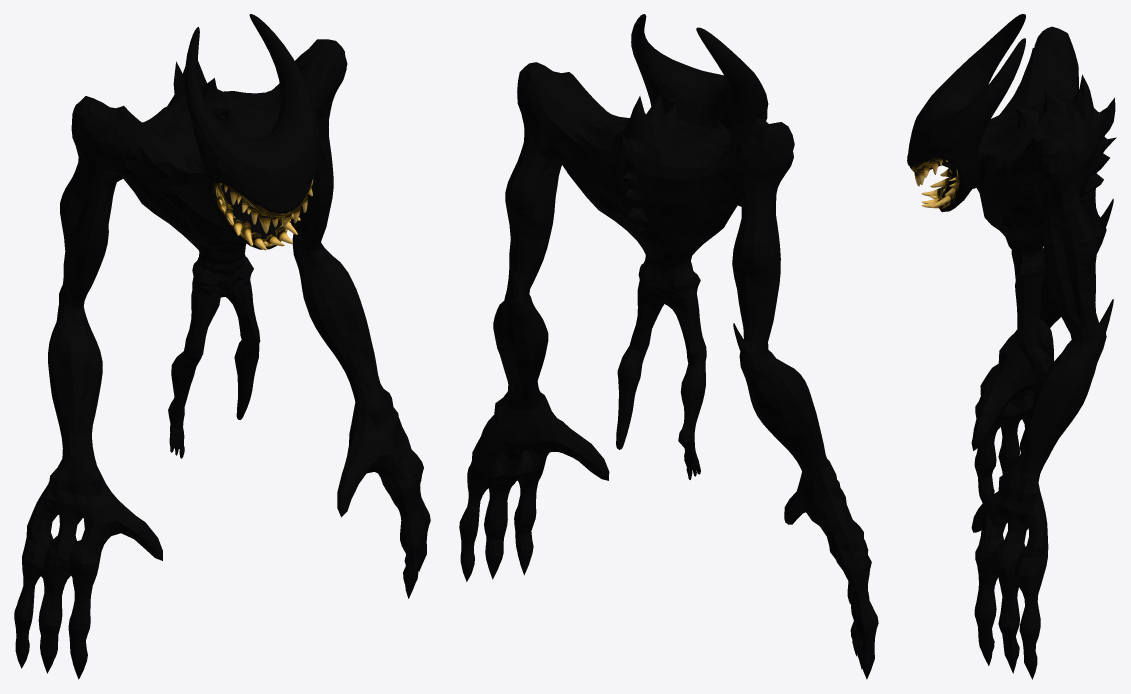
The model's file is BeastBendy.obj.
3 renders of one model, left to right at view 1: azimuth 30°, elevation 25°; view 2: azimuth 150°, elevation 25°; view 3: azimuth 270°, elevation 25°, orthographic. The views are drawn at different scales.
Visible parts, largest first — view 1: Model_Bendy_Monster; view 2: Model_Bendy_Monster; view 3: Model_Bendy_Monster.
Part boxes in pixels (box(x1,y1,x2,y2)): Model_Bendy_Monster: box(14, 14, 430, 679); Model_Bendy_Monster: box(459, 14, 878, 679); Model_Bendy_Monster: box(907, 14, 1116, 679).
Size of the model in its own units: 0.0963 by 0.1348 by 0.0453.
1 material, 1 textured.
